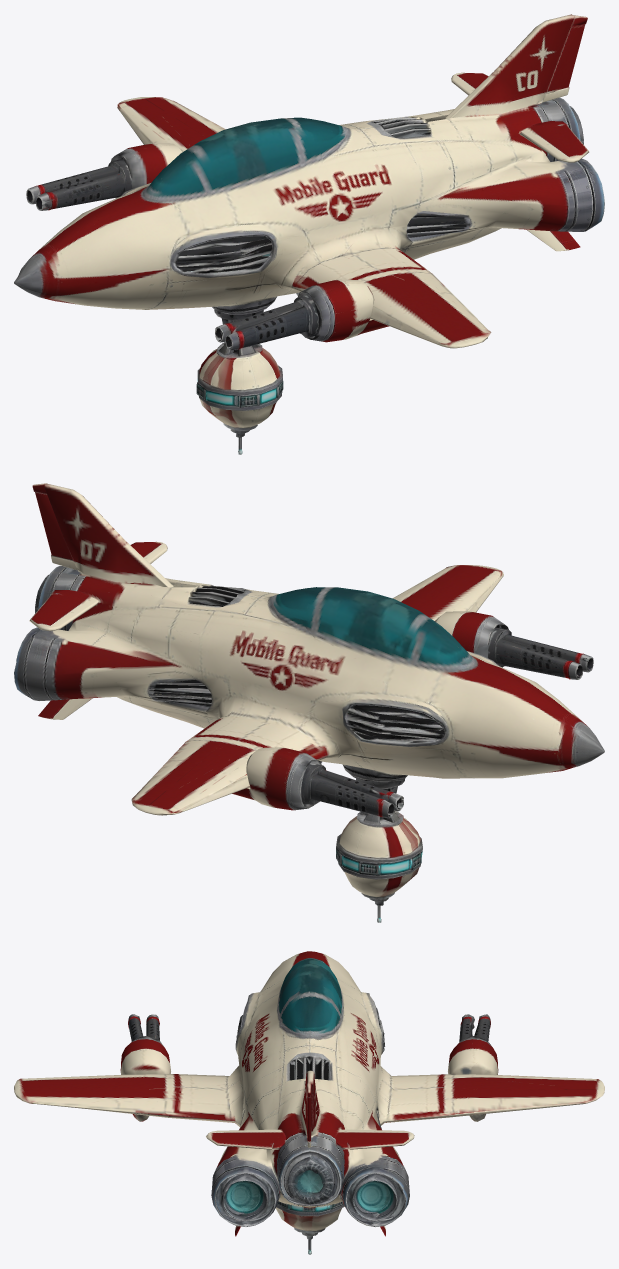
The model's file is guard.fbx.
3 renders of one model, top to bottom at view 1: azimuth 30°, elevation 25°; view 2: azimuth 150°, elevation 25°; view 3: azimuth 270°, elevation 25°, orthographic. The views are drawn at different scales.
Parts seen in each view (by area): view 1: Mesh_0; view 2: Mesh_0; view 3: Mesh_0.
Boxes of the visible parts, x1,y1,x2,y2 form: Mesh_0: (14,14,604,454); Mesh_0: (14,483,604,922); Mesh_0: (14,951,604,1254).
Bounding box in the file's own units: 93.8 × 56.01 × 95.46.
Materials: 1 (1 with a texture image).
